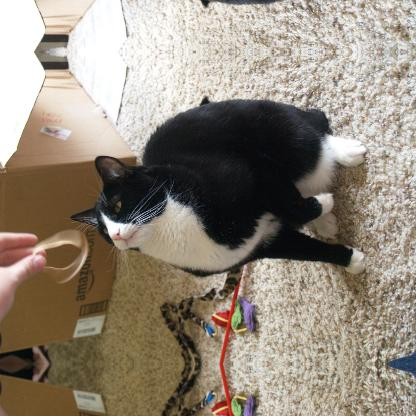Cat: (67, 94, 367, 290)
